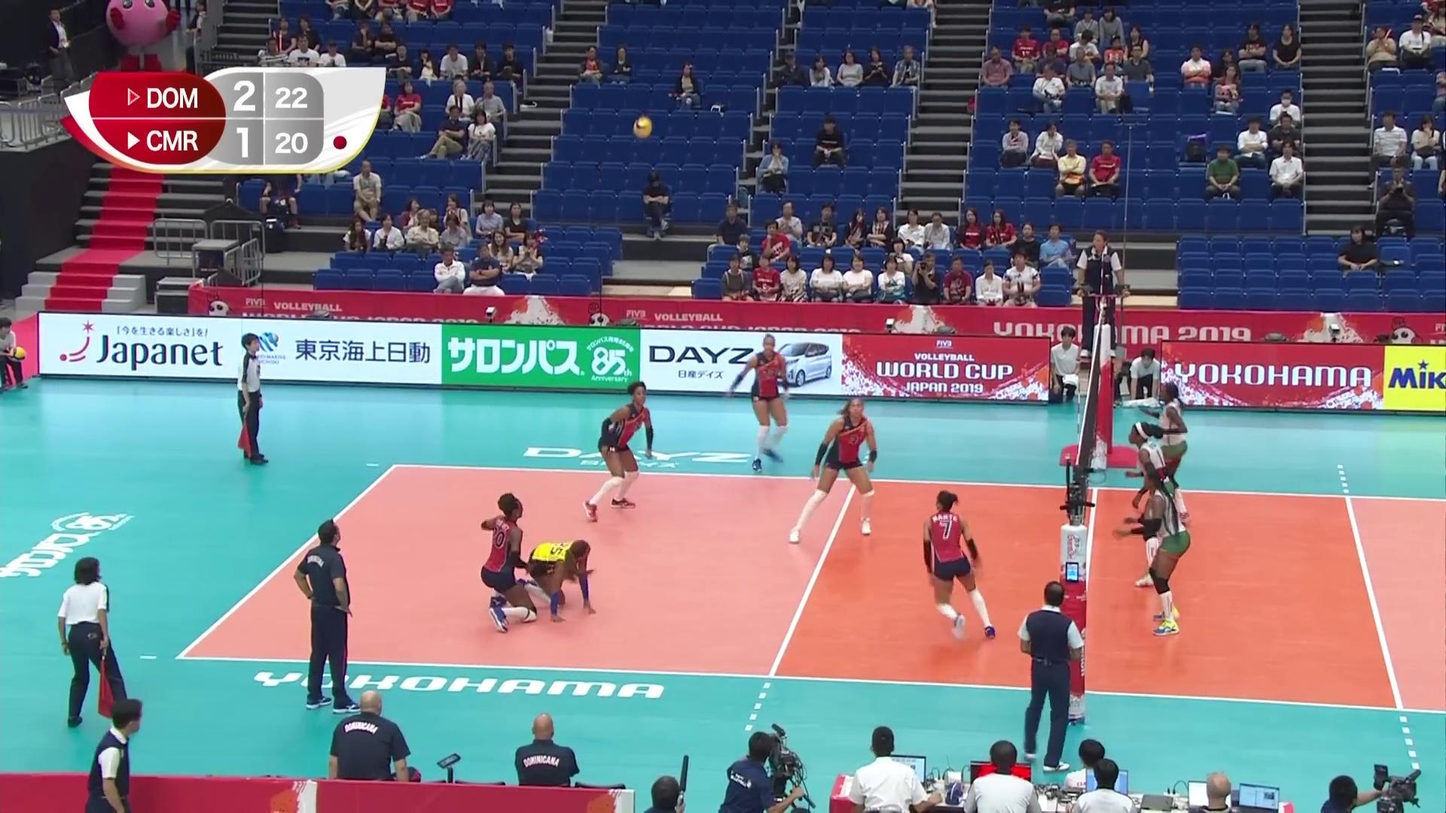player: (792, 398, 878, 545), (1122, 467, 1192, 637), (921, 493, 993, 640), (1123, 419, 1179, 587), (591, 386, 662, 512), (475, 503, 537, 635), (517, 537, 597, 626), (740, 333, 787, 470), (1147, 378, 1191, 522)
refree: (58, 565, 129, 731), (1021, 582, 1085, 764), (1073, 228, 1124, 360), (231, 332, 267, 465)
